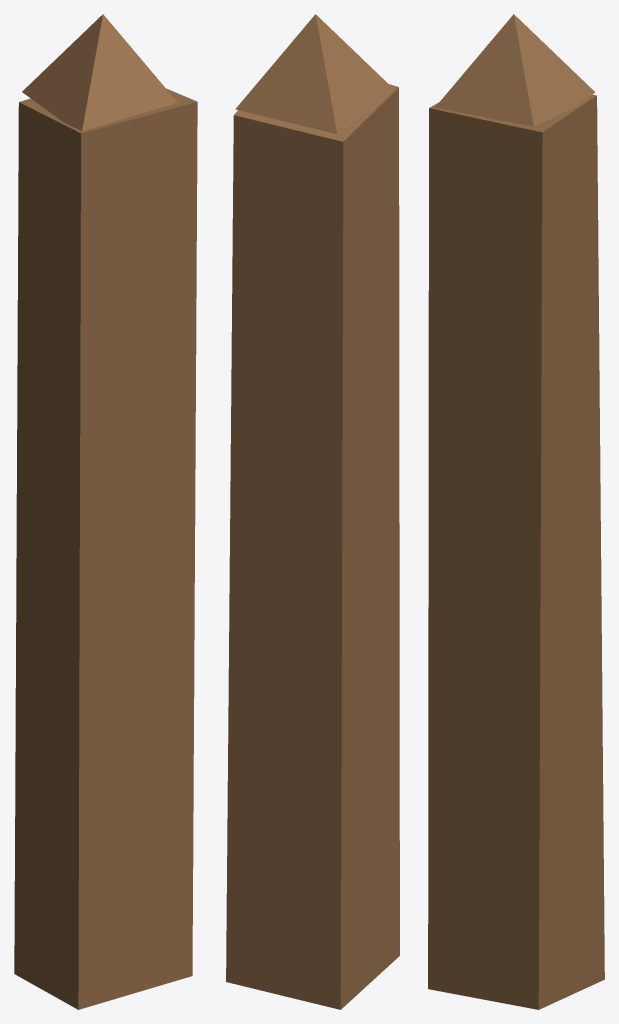
Rendered from fence_post.glb.
3 renders of one model, left to right at view 1: azimuth 30°, elevation 25°; view 2: azimuth 150°, elevation 25°; view 3: azimuth 330°, elevation 25°, orthographic.
Visible parts, largest first — view 1: fence_post; view 2: fence_post; view 3: fence_post.
Part boxes in pixels (x1,y1,x2,y2): fence_post: (14,14,197,1009); fence_post: (226,14,399,1009); fence_post: (428,14,604,1009).
Size of the model in its own units: 0.1139 by 0.8898 by 0.1083.
